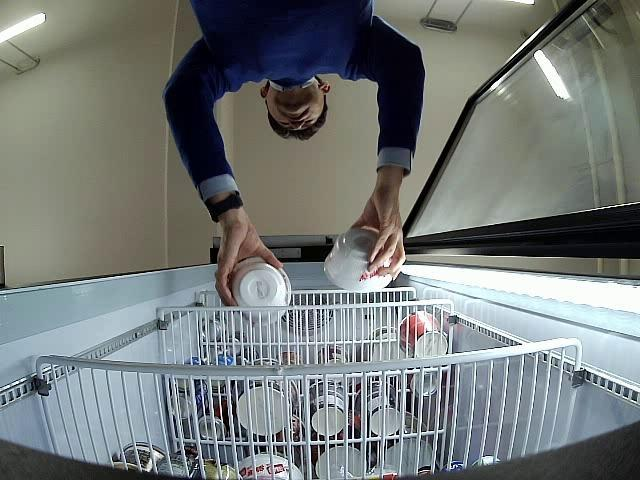09_yukGaeJang: (228, 256, 292, 326), (325, 228, 393, 291)
